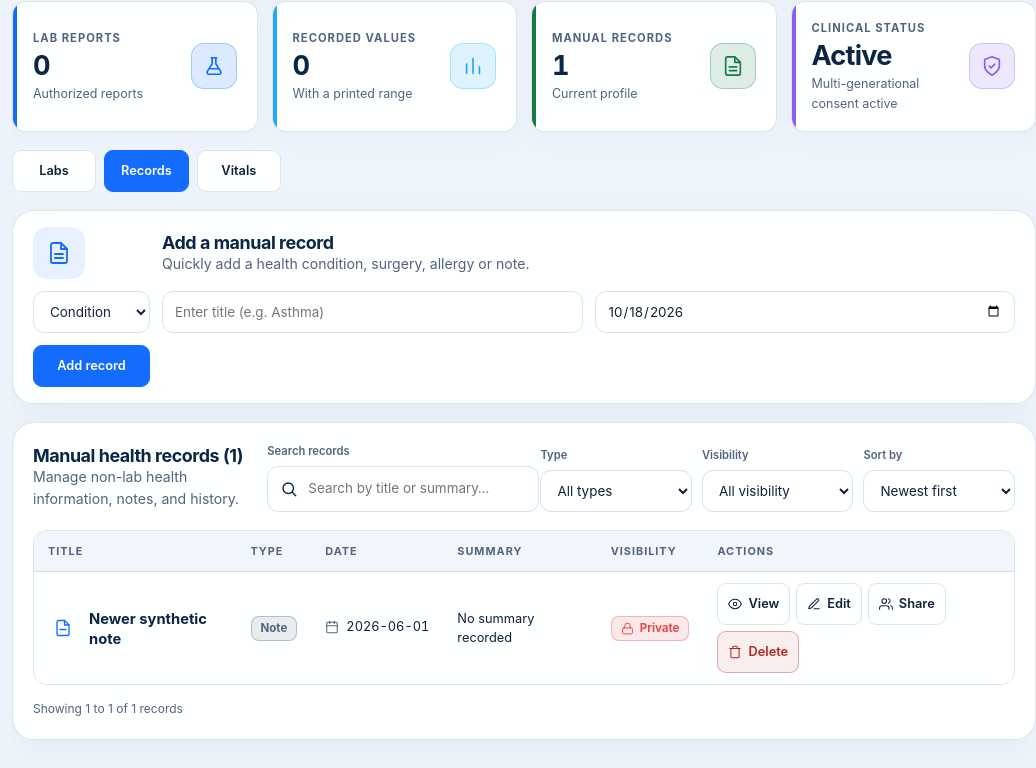
RecordsPage › requests oldest records only after the Records view sort changes
(page scrolled)
expect the text "Newer synthetic note" is shown: met, box [89,610,222,650]
Select "Oldest first" in the dropdown labelled "Sort by": point(939, 490) [864,470,1015,512]
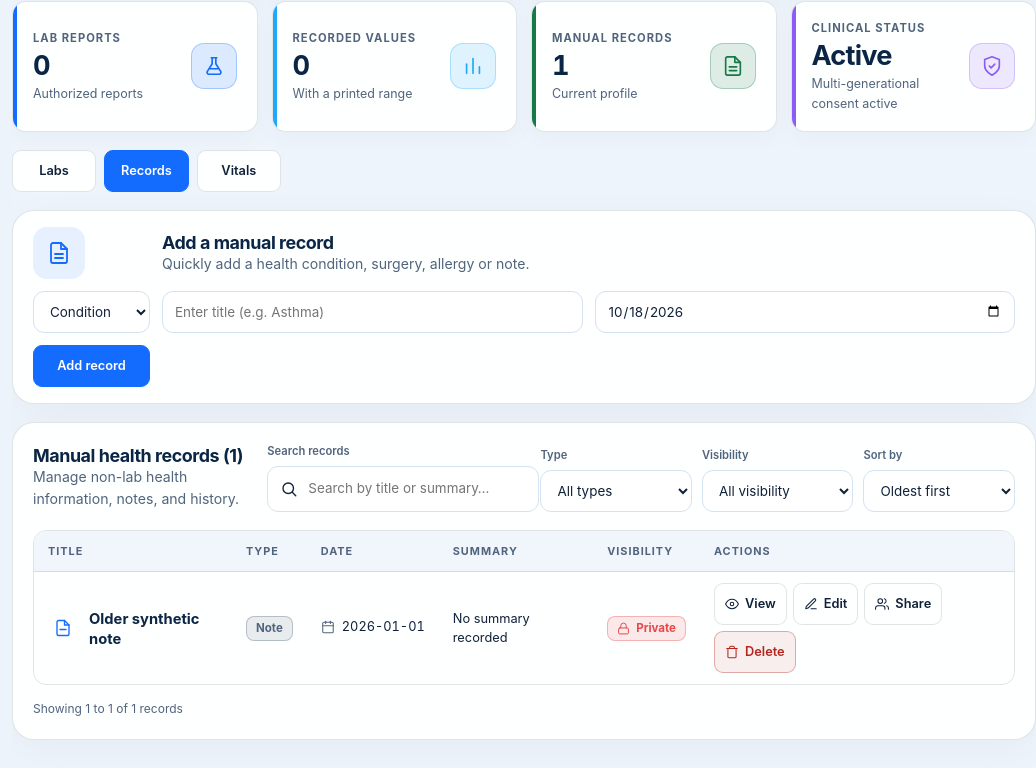
expect the text "Older synthetic note" is shown: met, box [89,610,218,650]
